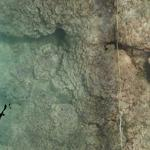dead: (1, 35, 136, 140)
